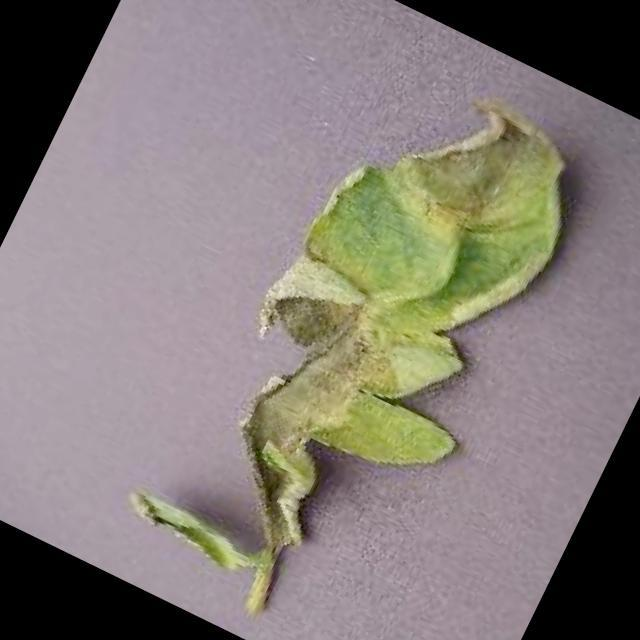Tomato late blight leaf: (169, 53, 607, 605), (108, 471, 254, 586)
